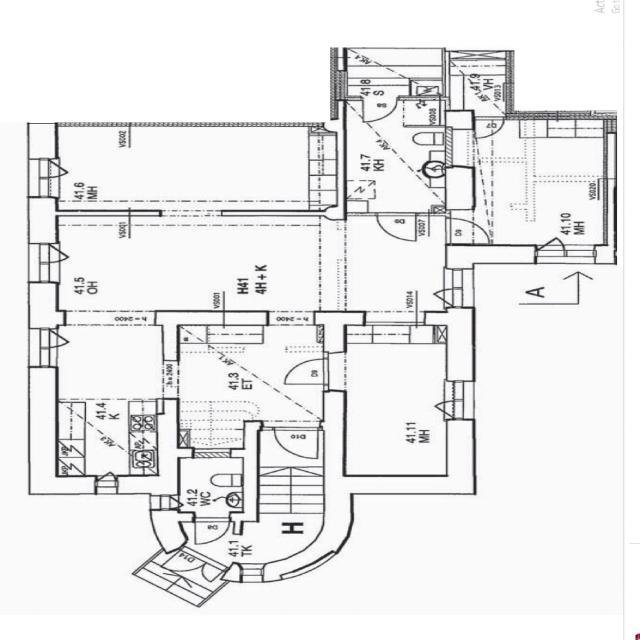door: (154, 541, 216, 585), (186, 554, 233, 588), (276, 421, 318, 458), (285, 360, 345, 384), (446, 218, 490, 244), (377, 213, 416, 241), (196, 512, 228, 543), (363, 96, 397, 122), (476, 116, 504, 138)
